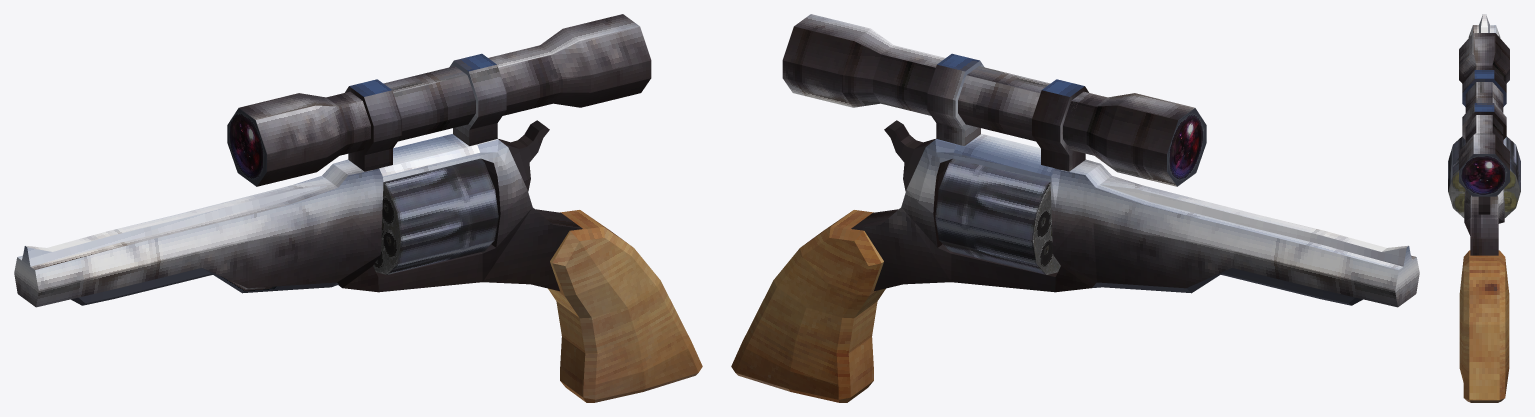
File: revolver_scoped.glb
The picture shows the model from 3 angles, left to right: view 1: azimuth 30°, elevation 25°; view 2: azimuth 150°, elevation 25°; view 3: azimuth 270°, elevation 25°; orthographic projection. The views are drawn at different scales.
Visible parts, largest first — view 1: Revolver, Scope, Cylinder; view 2: Revolver, Scope, Cylinder; view 3: Revolver, Scope, Cylinder.
Boxes of the visible parts, x1,y1,x2,y2 form: Revolver: (14, 120, 702, 402); Scope: (227, 14, 651, 186); Cylinder: (373, 158, 498, 274); Revolver: (731, 120, 1419, 402); Scope: (782, 14, 1206, 186); Cylinder: (935, 158, 1060, 274); Revolver: (1459, 14, 1509, 402); Scope: (1459, 33, 1509, 196); Cylinder: (1448, 136, 1520, 217).
Size of the model in its own units: 24.38 by 12.68 by 3.58.
Materials: 3 (3 with a texture image).
